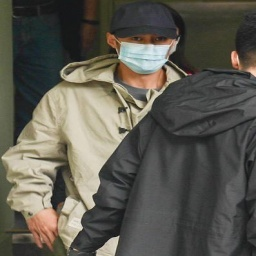correctlyWear: (106, 26, 177, 75)
